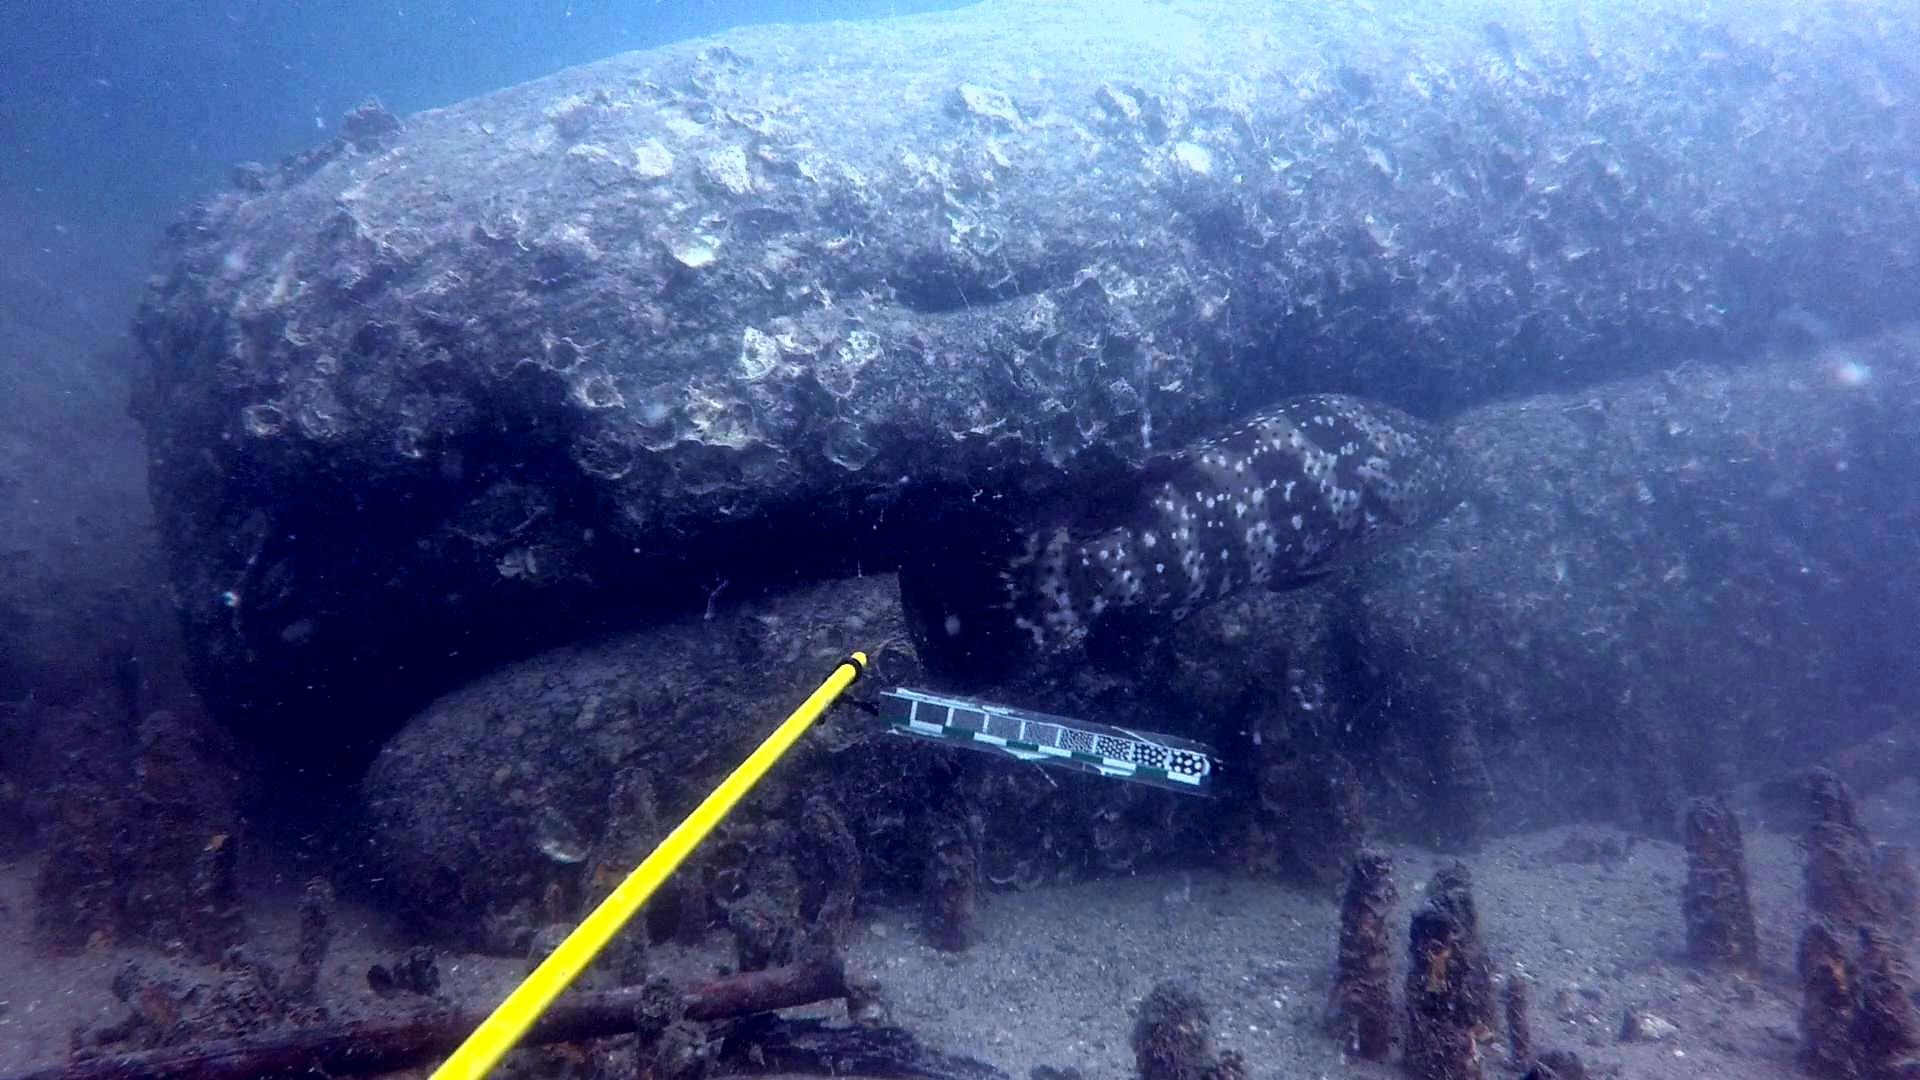epinephelus: (886, 385, 1502, 700)
